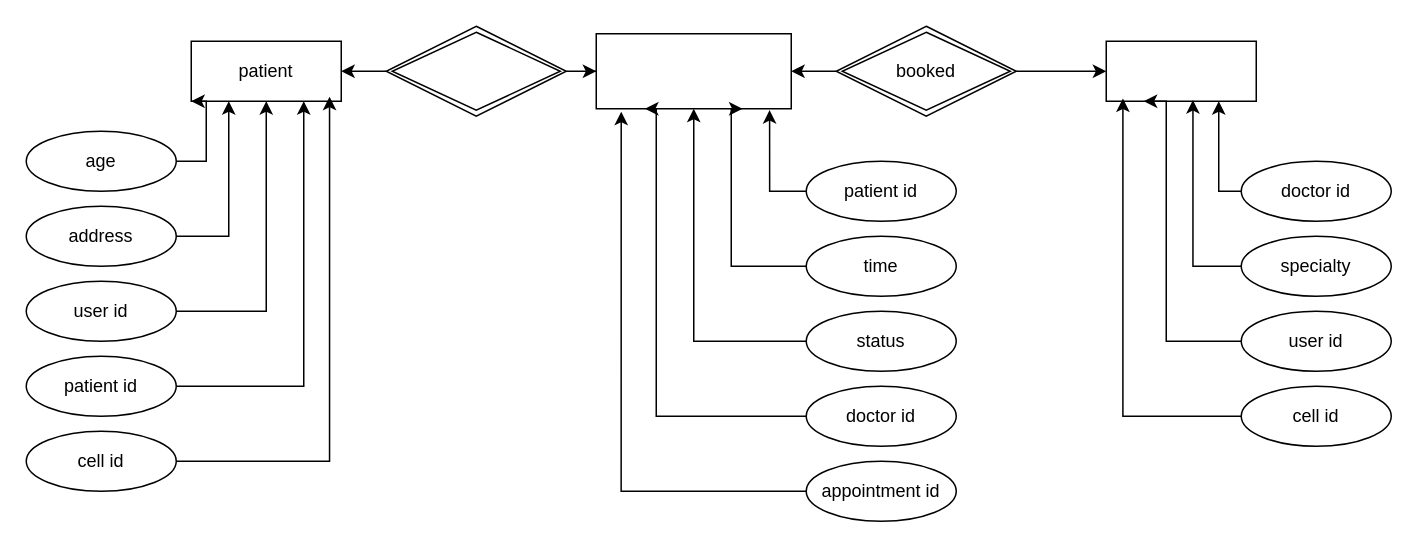
Some shapes in this 1418 by 548 pixel diagram are drawn without their labels. The centre of each missing label's shape, as x and y in pixels:
"appointment" belongs at pixel 693 70.
"doctor" belongs at pixel 1180 70.
"is booking" belongs at pixel 475 70.
